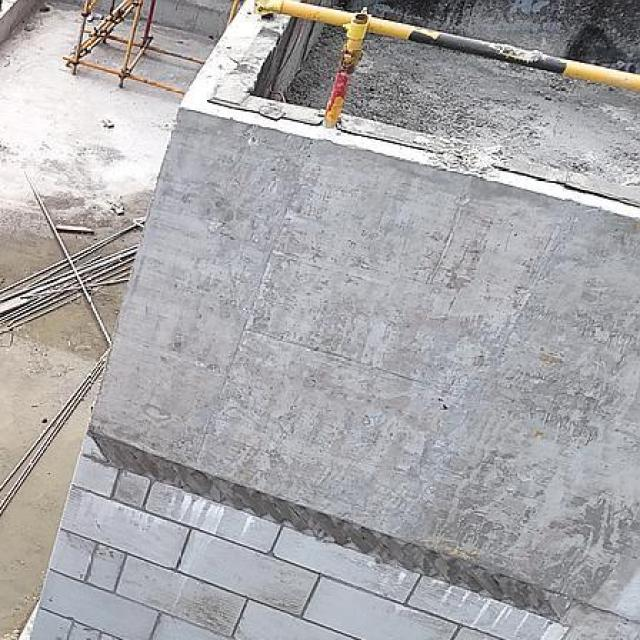edge_guardrail: (254, 0, 640, 129)
